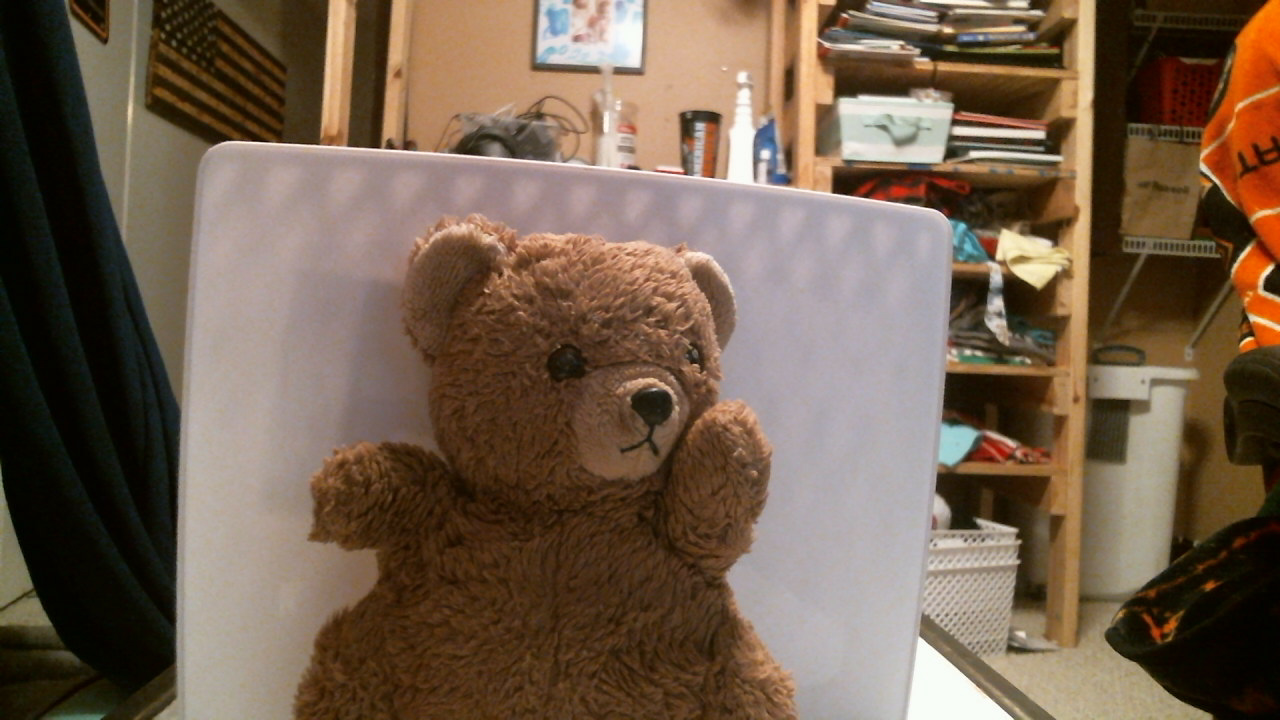Little_Mister_Bear: (541, 337, 711, 481)
